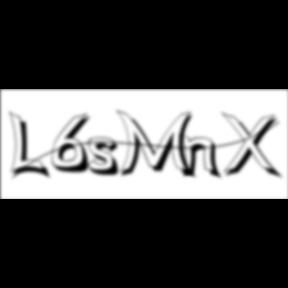6: (51, 112, 96, 176)
L: (9, 110, 53, 182)
M: (116, 108, 200, 181)
X: (221, 112, 285, 182)
n: (180, 132, 226, 181)
s: (88, 137, 126, 179)
